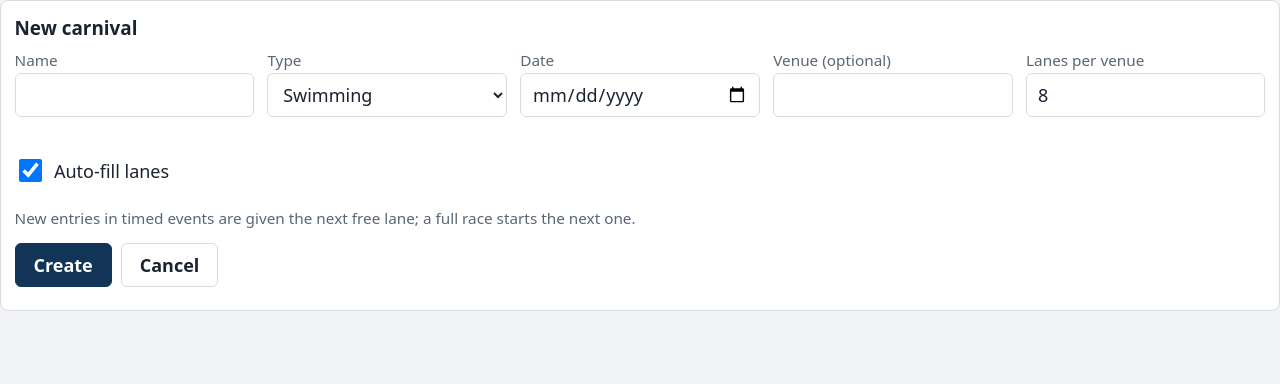
Test case: NewCarnivalForm › rejects a lane count outside the venue bounds before any write
The width and height of the screenshot is (1280, 384).
Type "Preston Swimming" into the field labelled "Name".
click(134, 95); type("Preston Swimming")  # box [14,73,254,117]
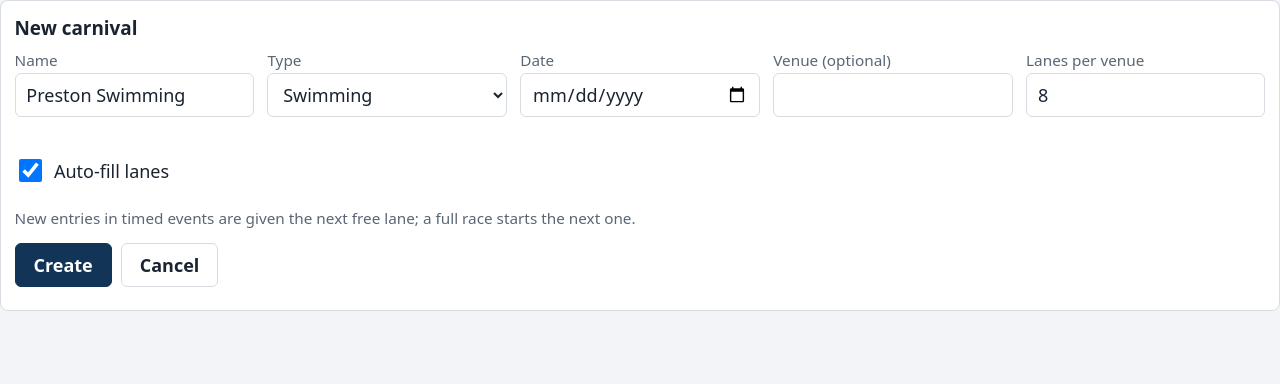
Type "2027-03-06" into the date field labelled "Date".
click(640, 95); type("2027-03-06")  # box [520,73,760,117]
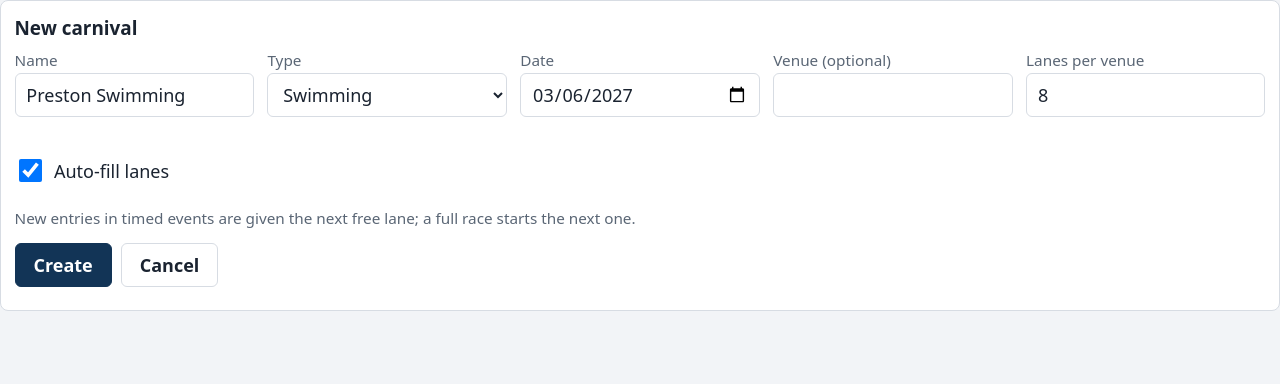
Replace the text in the number field labelled "Lanes per venue" with "0" at (1146, 95), box [1026,73,1266,117]
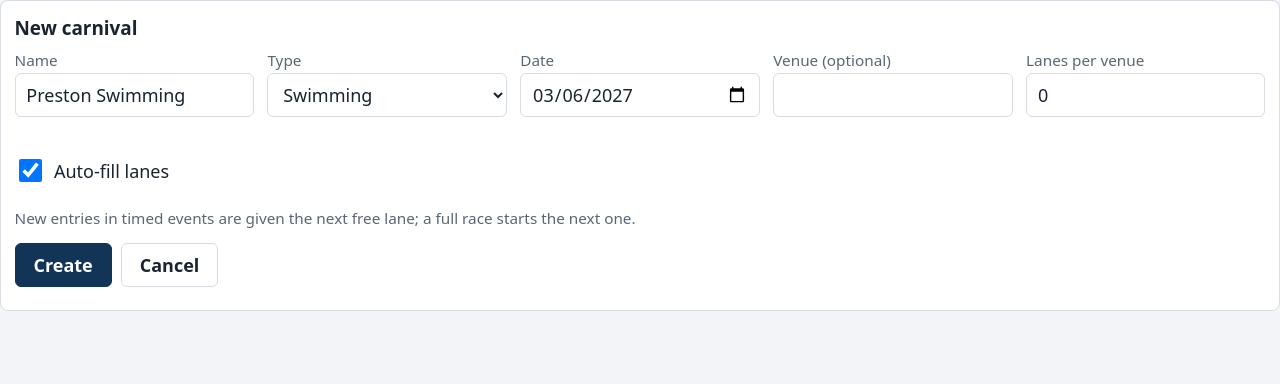
Click the button "Create".
click(63, 265)  # box [14,243,112,287]
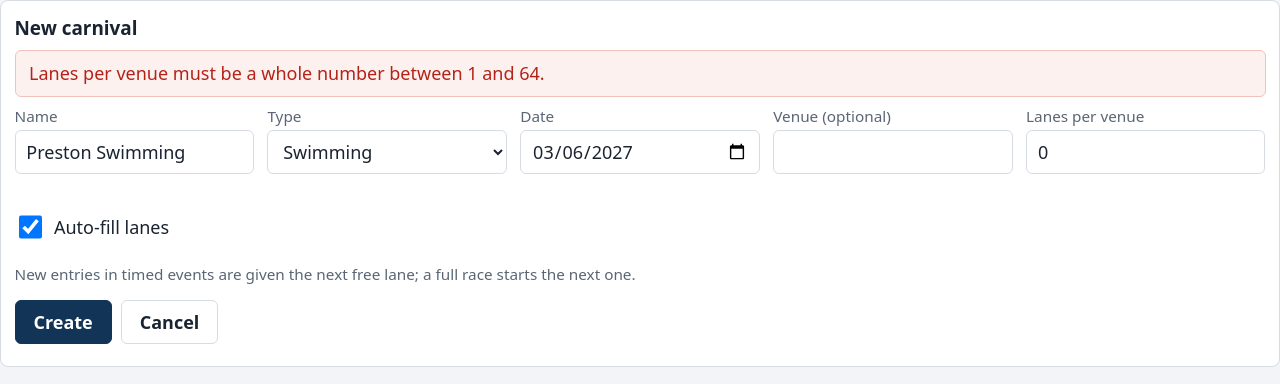
expect the message shows "between 1 and 64": met, box [29,61,545,85]
